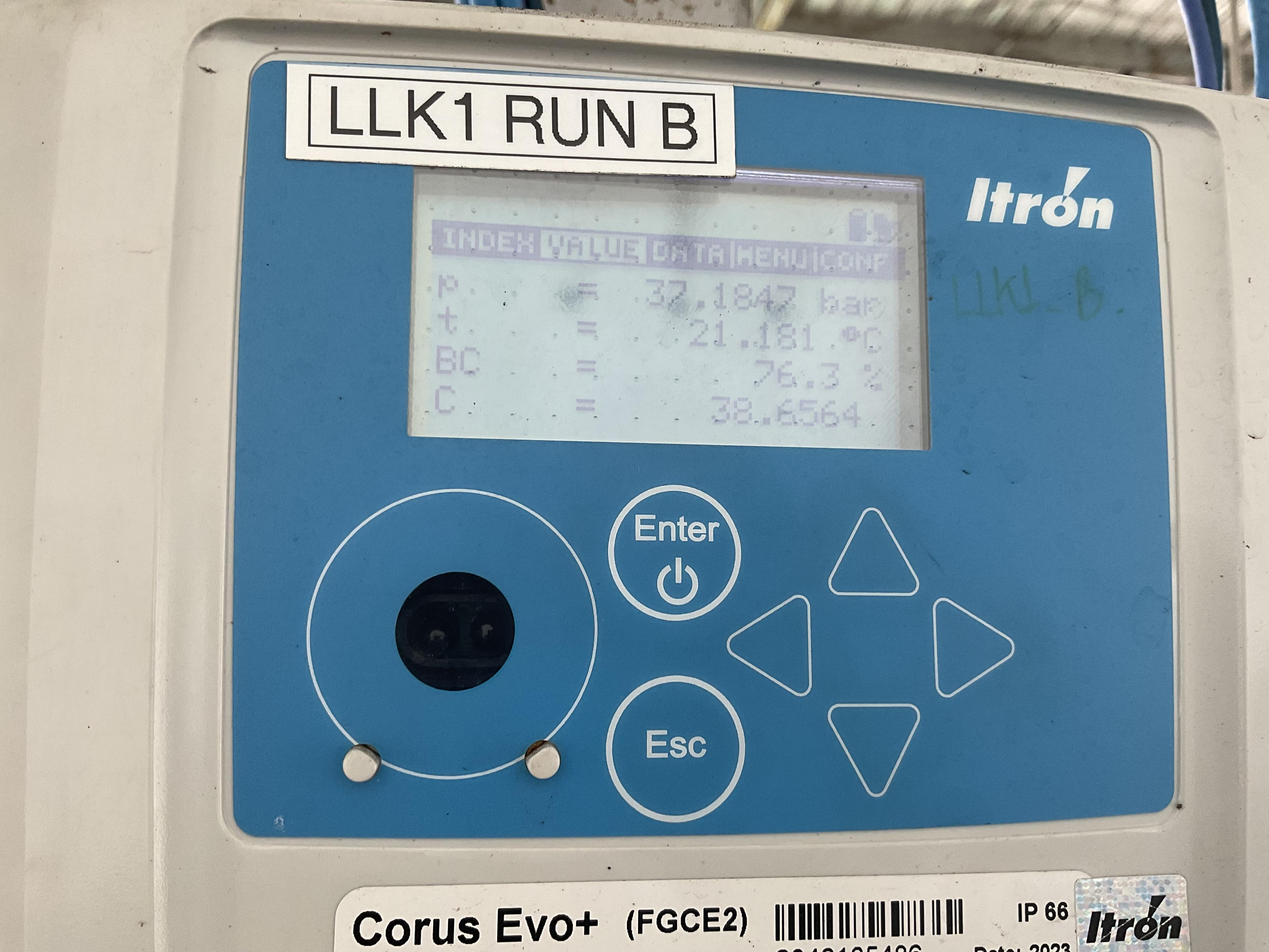digital_screen: (405, 150, 938, 450)
